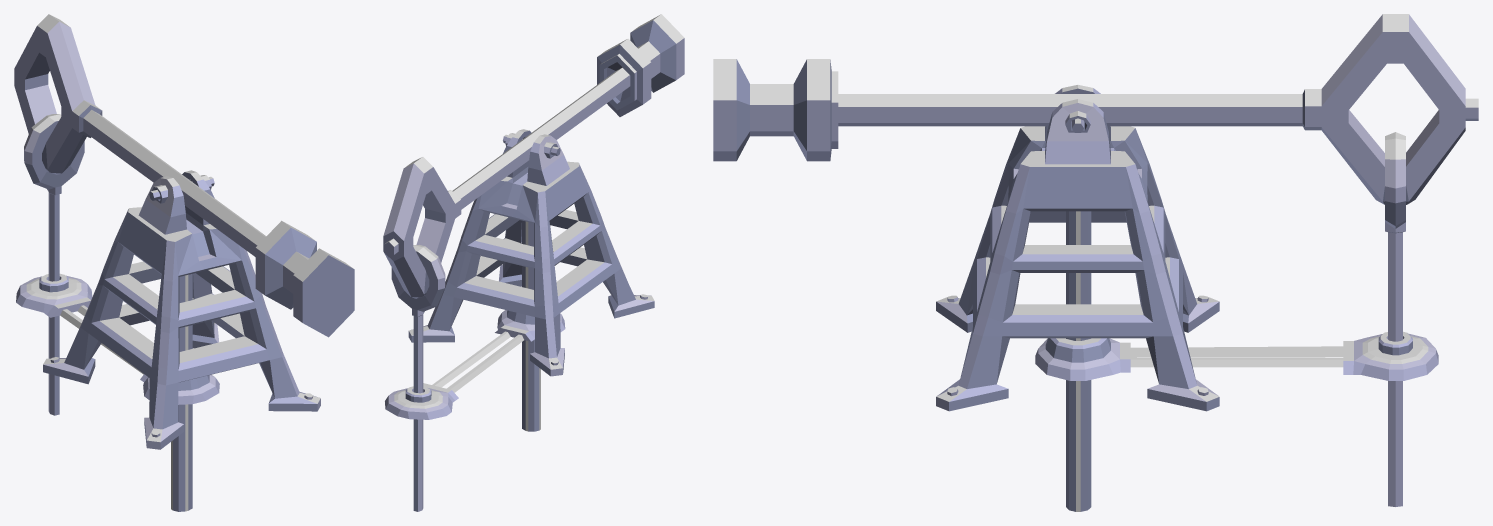
The model's file is Prop_Dataminer.fbx.
3 views of the same model, side by side, from view 1: azimuth 30°, elevation 25°; view 2: azimuth 150°, elevation 25°; view 3: azimuth 270°, elevation 25° (orthographic). The views are drawn at different scales.
Parts seen in each view (by area): view 1: Data_Miner, Data_Miner_Color; view 2: Data_Miner, Data_Miner_Color; view 3: Data_Miner, Data_Miner_Color.
Part boxes in pixels (box(x1,y1,x2,y2)): Data_Miner: box(14, 14, 354, 511); Data_Miner_Color: box(26, 275, 188, 511); Data_Miner: box(383, 14, 684, 511); Data_Miner_Color: box(394, 221, 540, 431); Data_Miner: box(713, 14, 1478, 511); Data_Miner_Color: box(1076, 211, 1428, 511).
Bounding box in the file's own units: 285 × 618 × 872.
